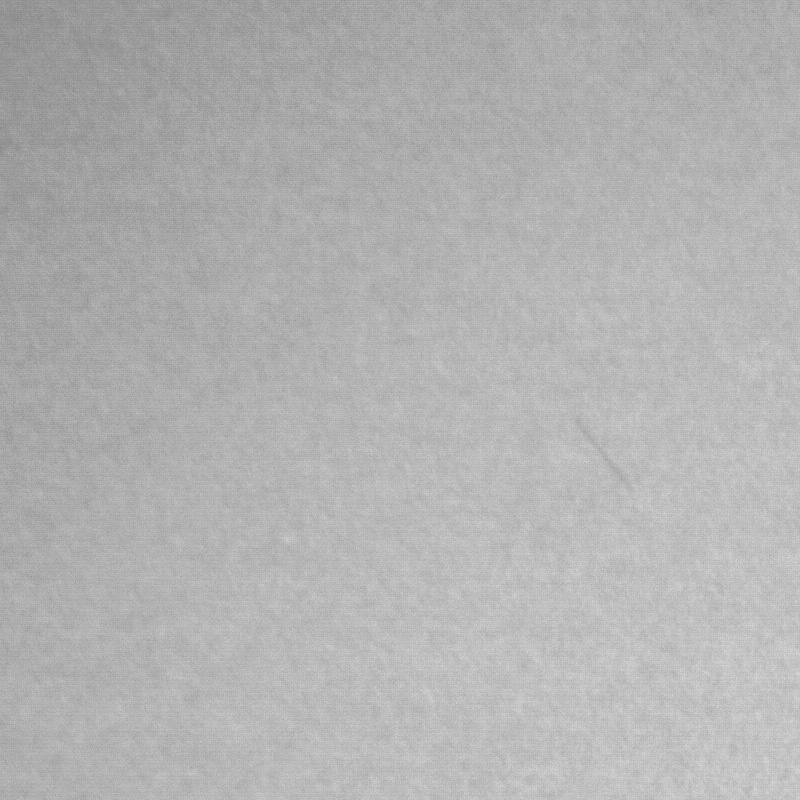defect: (577, 419, 639, 486)
